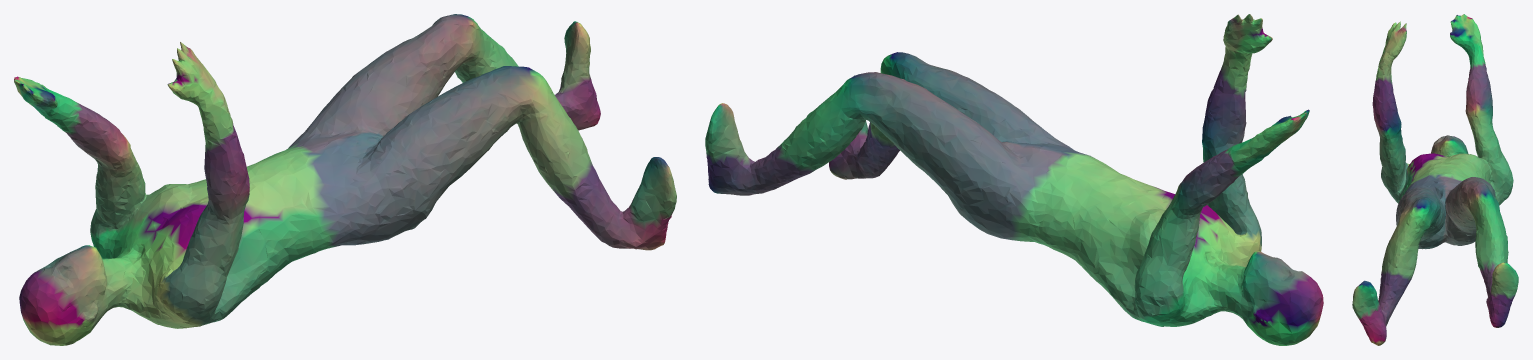
File: man-4.off.obj
3 views of the same model, side by side, from view 1: azimuth 30°, elevation 25°; view 2: azimuth 150°, elevation 25°; view 3: azimuth 270°, elevation 25° (orthographic). The views are drawn at different scales.
Size of the model in its own units: 1.63 by 0.7781 by 0.6178.
